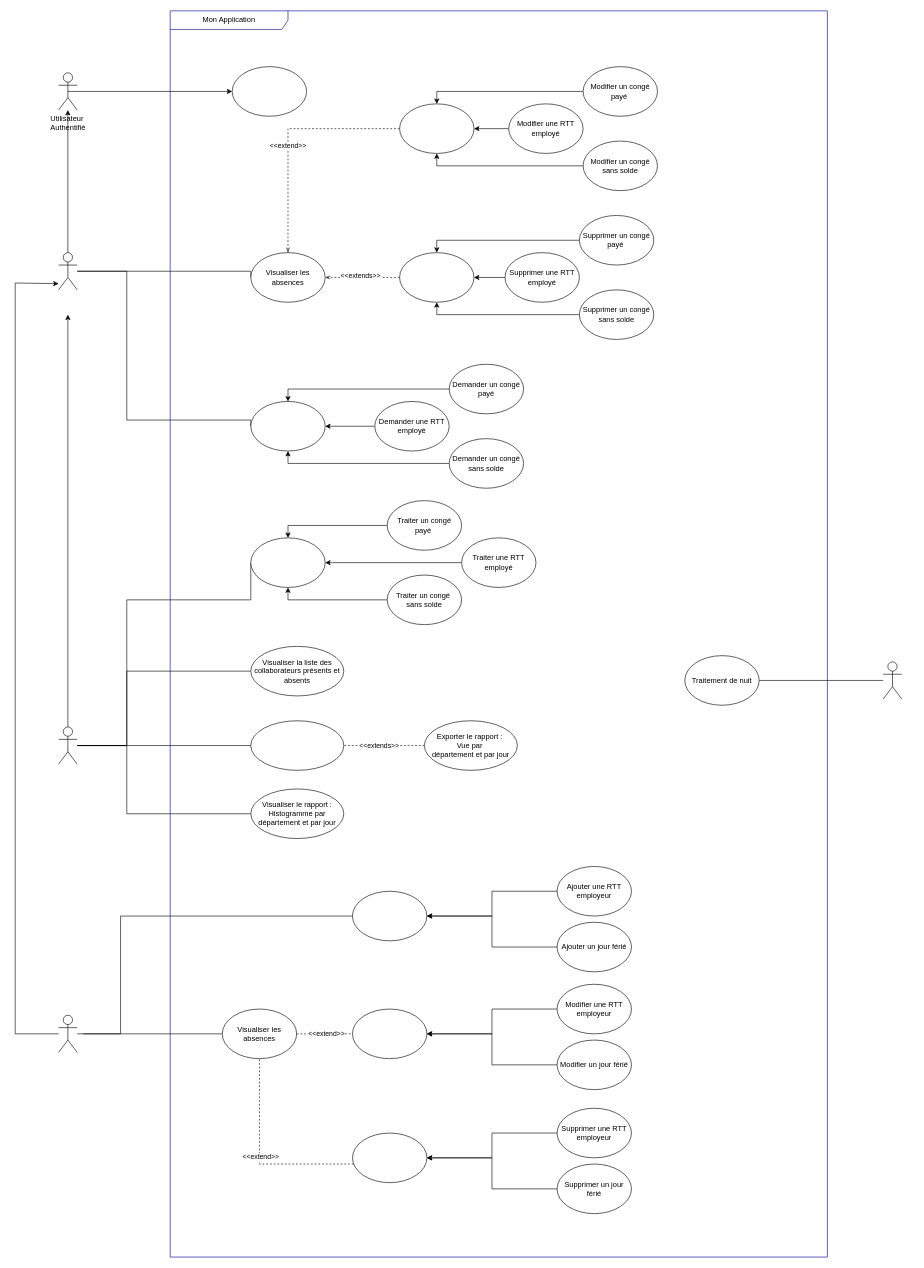
This 924x1268 diagram has some shape labels left out. Each missing label, with the centre of its shape:
"<<System>>" belongs at [892,680].
"Admin" belongs at [67,1033].
"Ajouter une absence de groupe" belongs at [389,916].
"Authentifier salarié" belongs at [269,91].
"Demander une absence" belongs at [287,426].
"Manager" belongs at [67,745].
"Modifier une absence" belongs at [436,128].
"Modifier une absence de groupe" belongs at [389,1033].
"Salarié" belongs at [67,271].
"Supprimer une absence" belongs at [436,277].
"Supprimer une absence de groupe" belongs at [389,1157].
"Traiter une absence : Valider / Rejeter" belongs at [287,562].
"Visualiser le rapport : Vue par département et par jour" belongs at [297,745].
